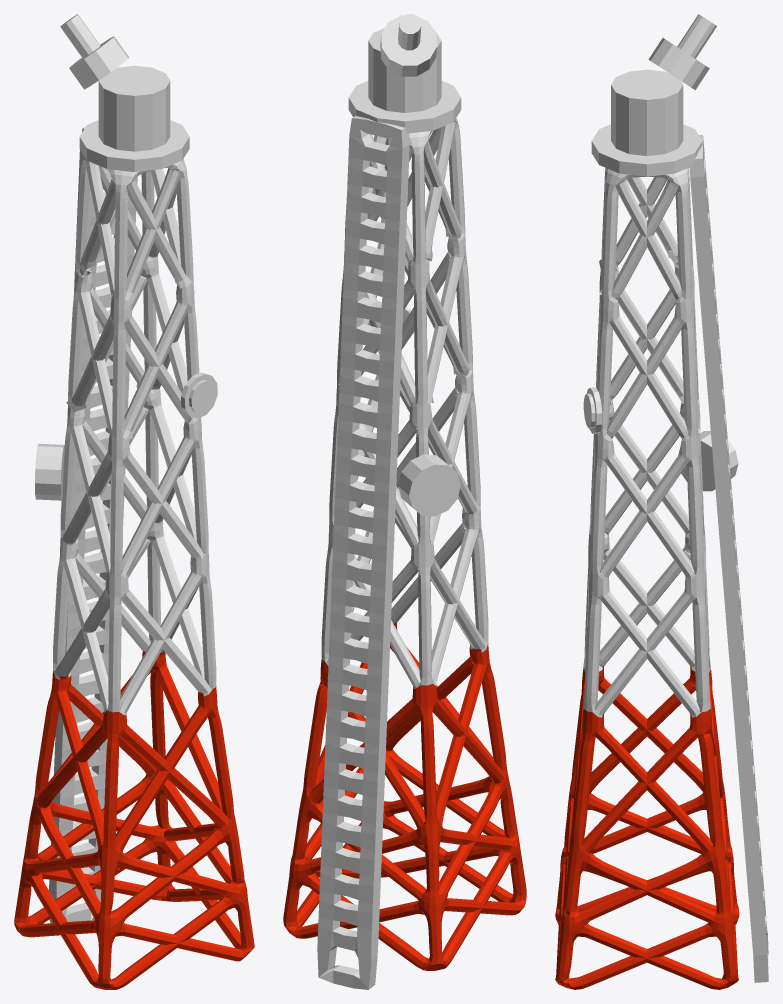
Rendered from comm_tower.glb.
3 views of the same model, side by side, from view 1: azimuth 30°, elevation 25°; view 2: azimuth 150°, elevation 25°; view 3: azimuth 270°, elevation 25° (orthographic). The views are drawn at different scales.
Visible parts, largest first — view 1: Vert, Vert.002, Cylinder, Cylinder.003, Cylinder.002, Cylinder.001; view 2: Vert, Vert.002, Cylinder, Cylinder.003, Cylinder.002; view 3: Vert, Vert.002, Cylinder, Cylinder.003, Cylinder.002, Cylinder.001.
Part boxes in pixels (x1,y1,x2,y2): Vert: (14,156,254,989); Vert.002: (49,127,137,923); Cylinder: (79,65,189,171); Cylinder.003: (60,14,128,89); Cylinder.002: (35,443,64,500); Cylinder.001: (181,372,217,418); Vert: (283,118,526,970); Vert.002: (317,116,409,989); Cylinder: (348,28,461,133); Cylinder.003: (380,14,436,76); Cylinder.002: (398,454,460,516); Vert: (555,168,739,989); Vert.002: (689,134,768,982); Cylinder: (591,69,702,176); Cylinder.003: (648,14,716,90); Cylinder.002: (678,431,738,491); Cylinder.001: (583,387,602,433).
Size of the model in its own units: 6.48 by 36.52 by 7.51.
